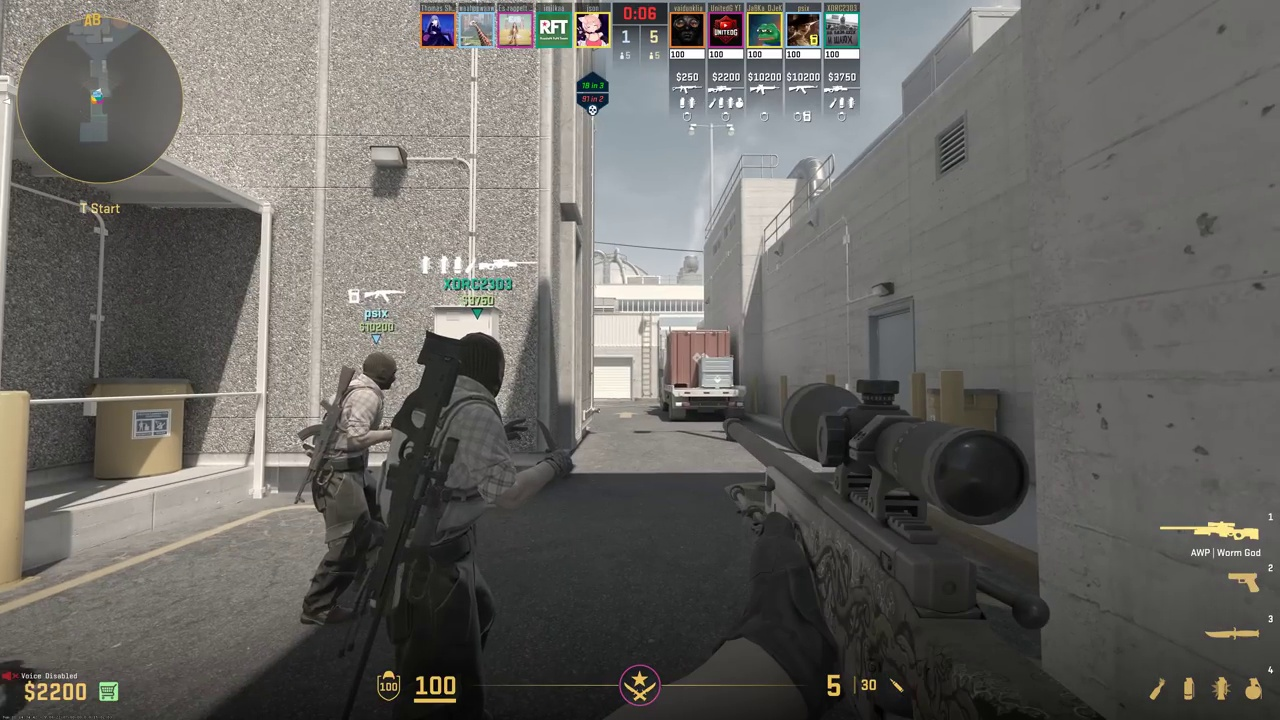Terrorist: (381, 331, 551, 691), (301, 356, 392, 624)
